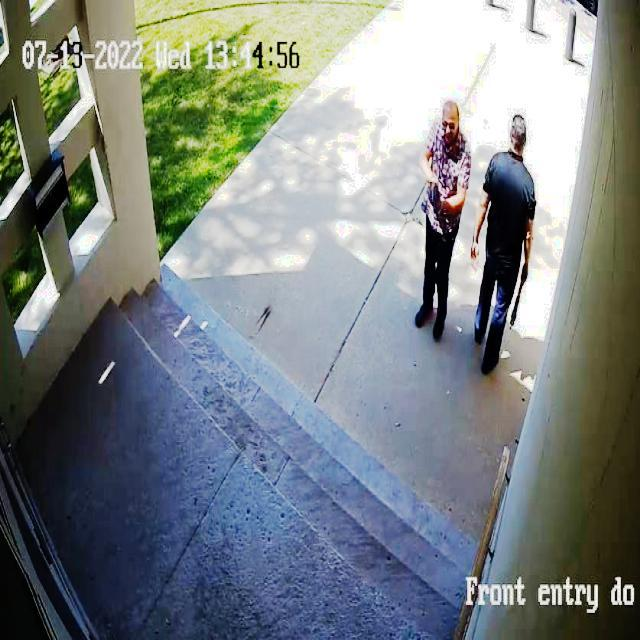Gun: (515, 256, 533, 336), (420, 180, 452, 210)
